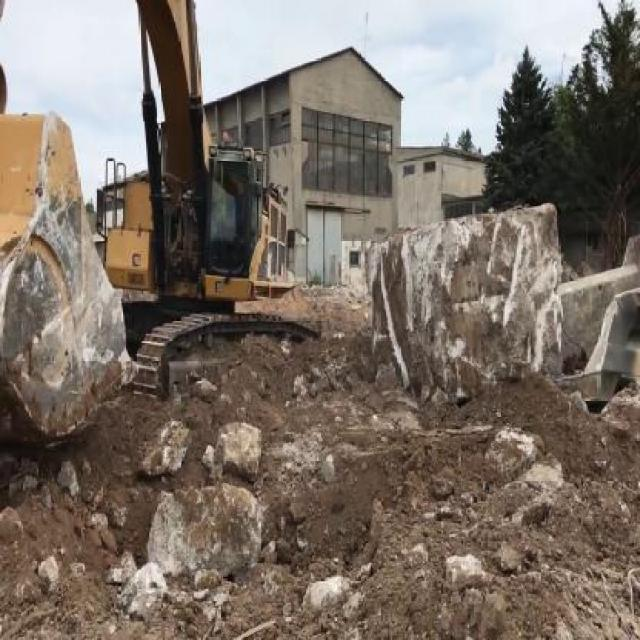Excavator: (0, 0, 323, 445)
